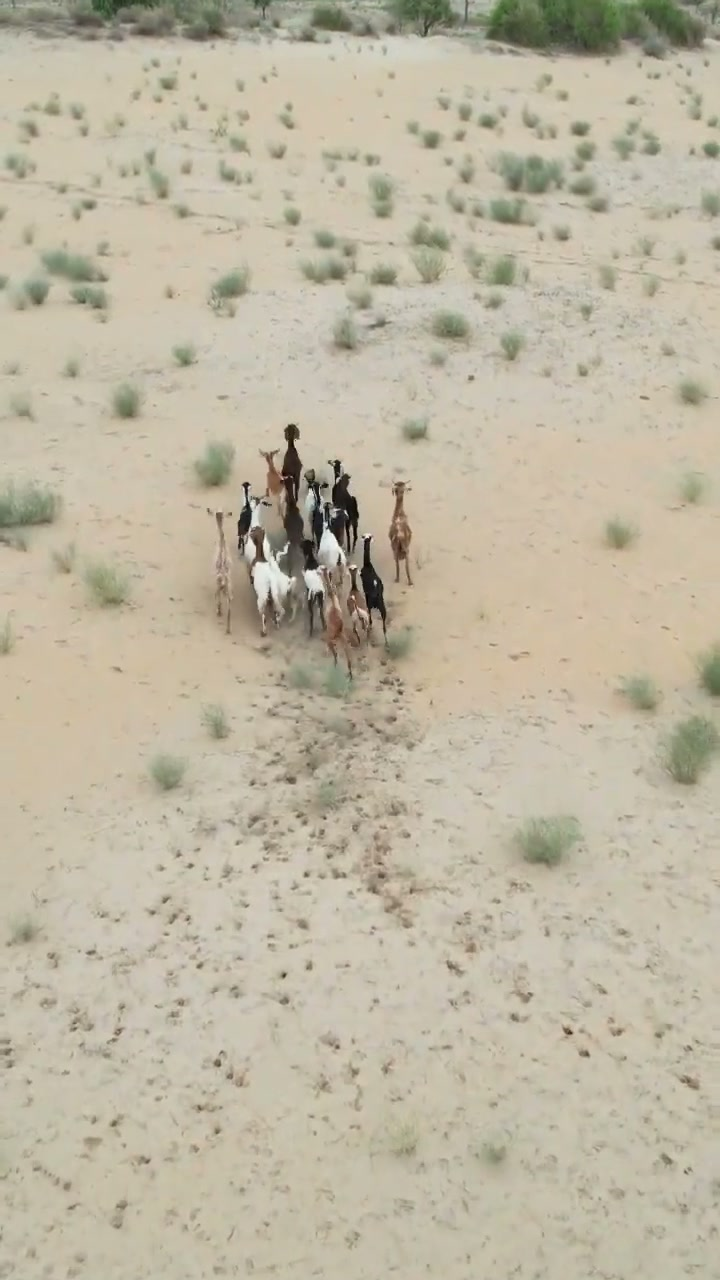animal_footprint: (3, 631, 719, 1244)
